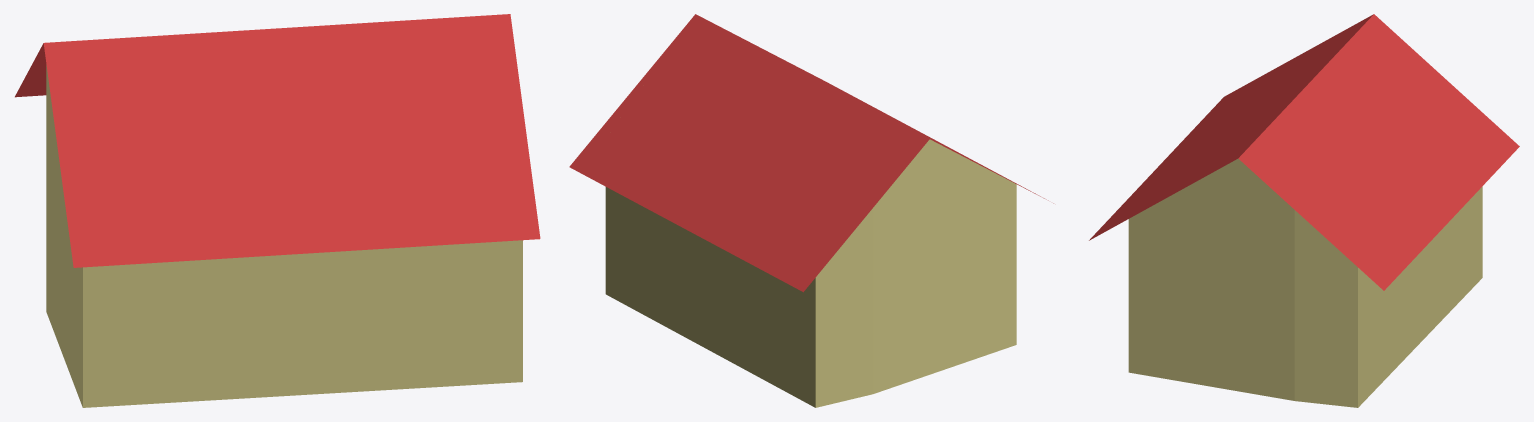
The picture shows the model from 3 angles, left to right: view 1: azimuth 30°, elevation 25°; view 2: azimuth 150°, elevation 25°; view 3: azimuth 270°, elevation 25°; orthographic projection. The views are drawn at different scales.
Size of the model in its own units: 20.9 by 19.64 by 11.84.
